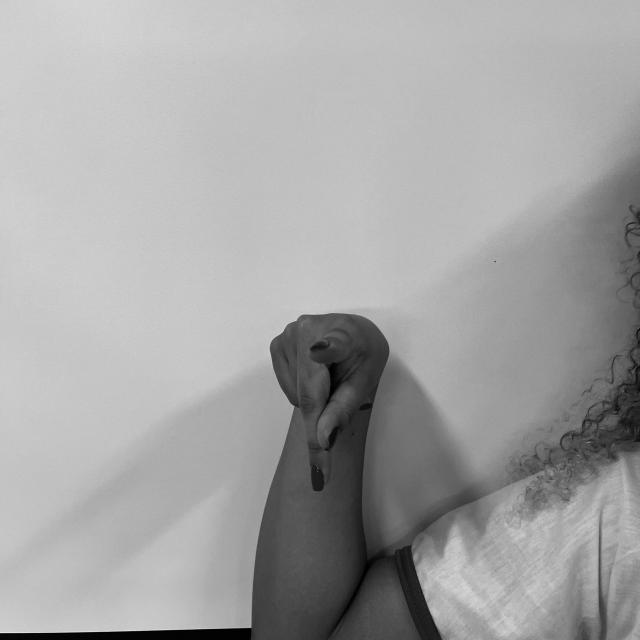Letra P: (263, 310, 394, 498)
